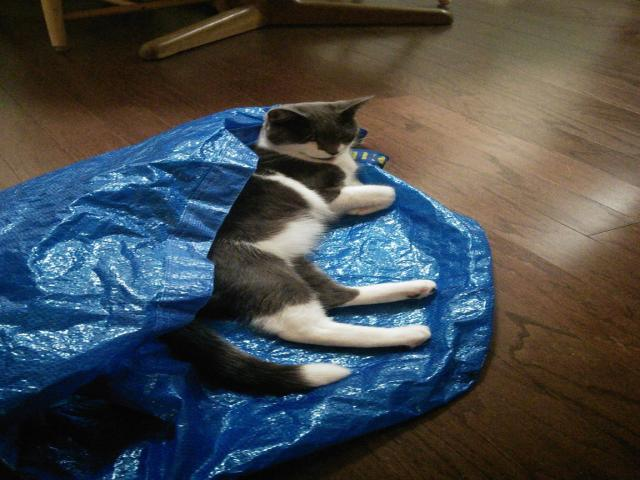Cat: (147, 99, 433, 395)
